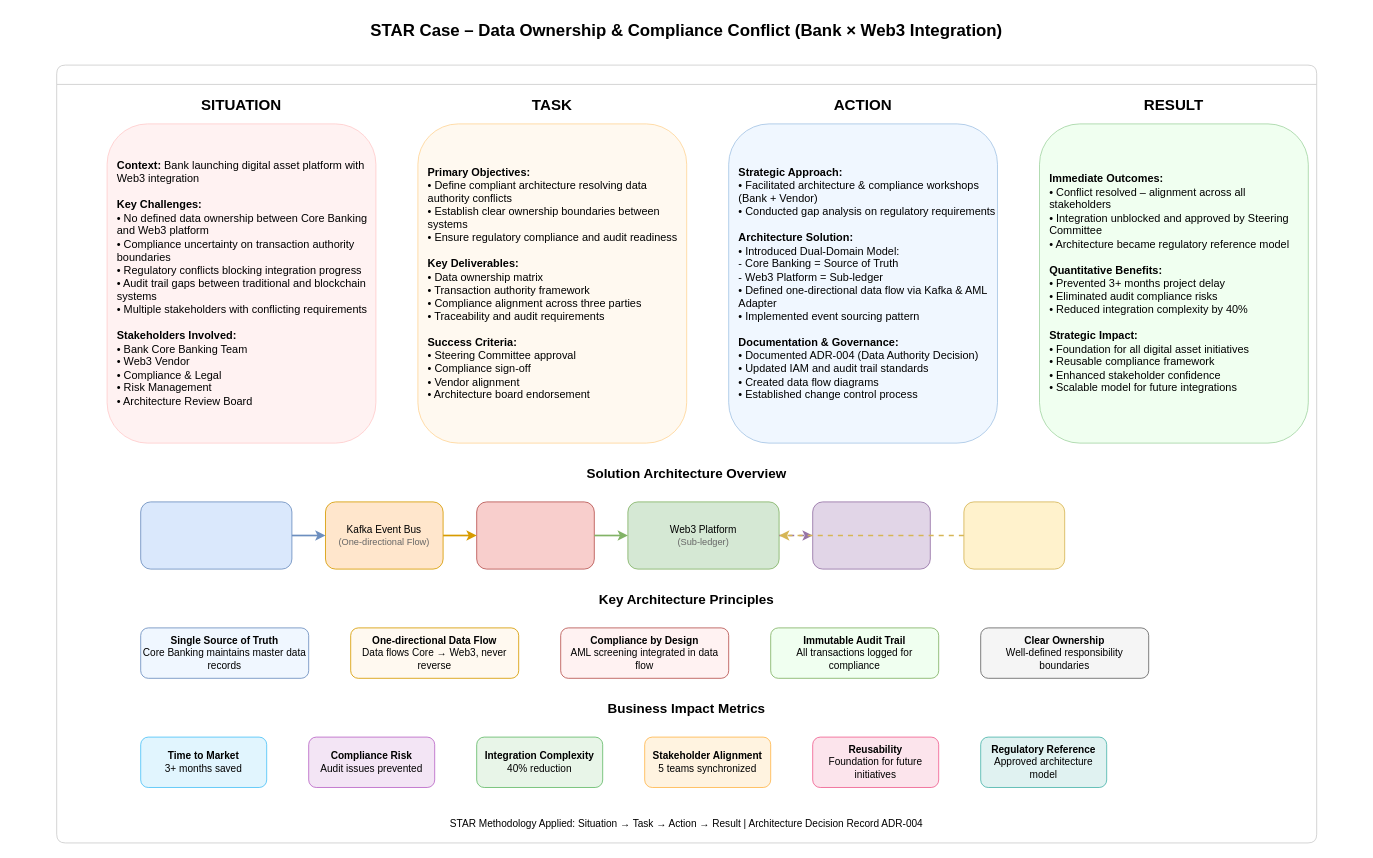
This 1373x858 diagram has some shape labels left out. The centre of each missing label's shape, as x and y in pixels:
"AML Compliance Adapter (Real-time Screening)" belongs at point 535,535.
"Audit Trail System (Immutable Records)" belongs at point 871,535.
"Core Banking System (Source of Truth)" belongs at point 216,535.
"IAM System (Access Control)" belongs at point 1014,535.
